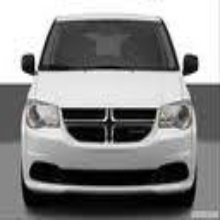no damage: (20, 12, 202, 211)
